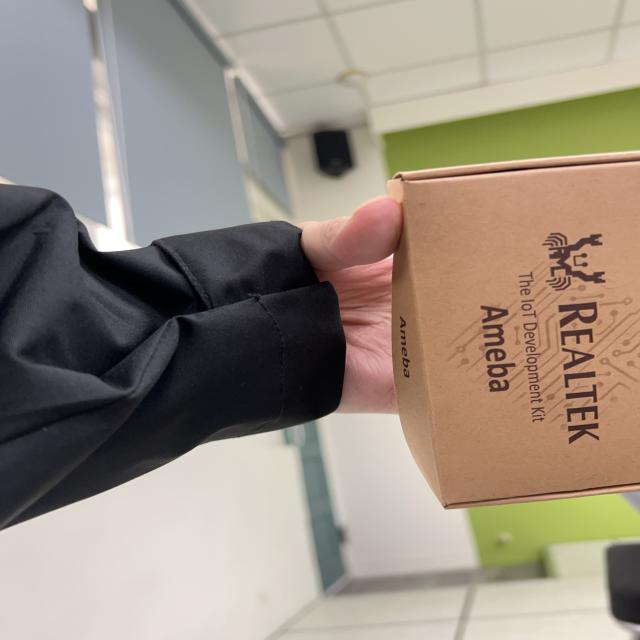box: (365, 147, 640, 513)
